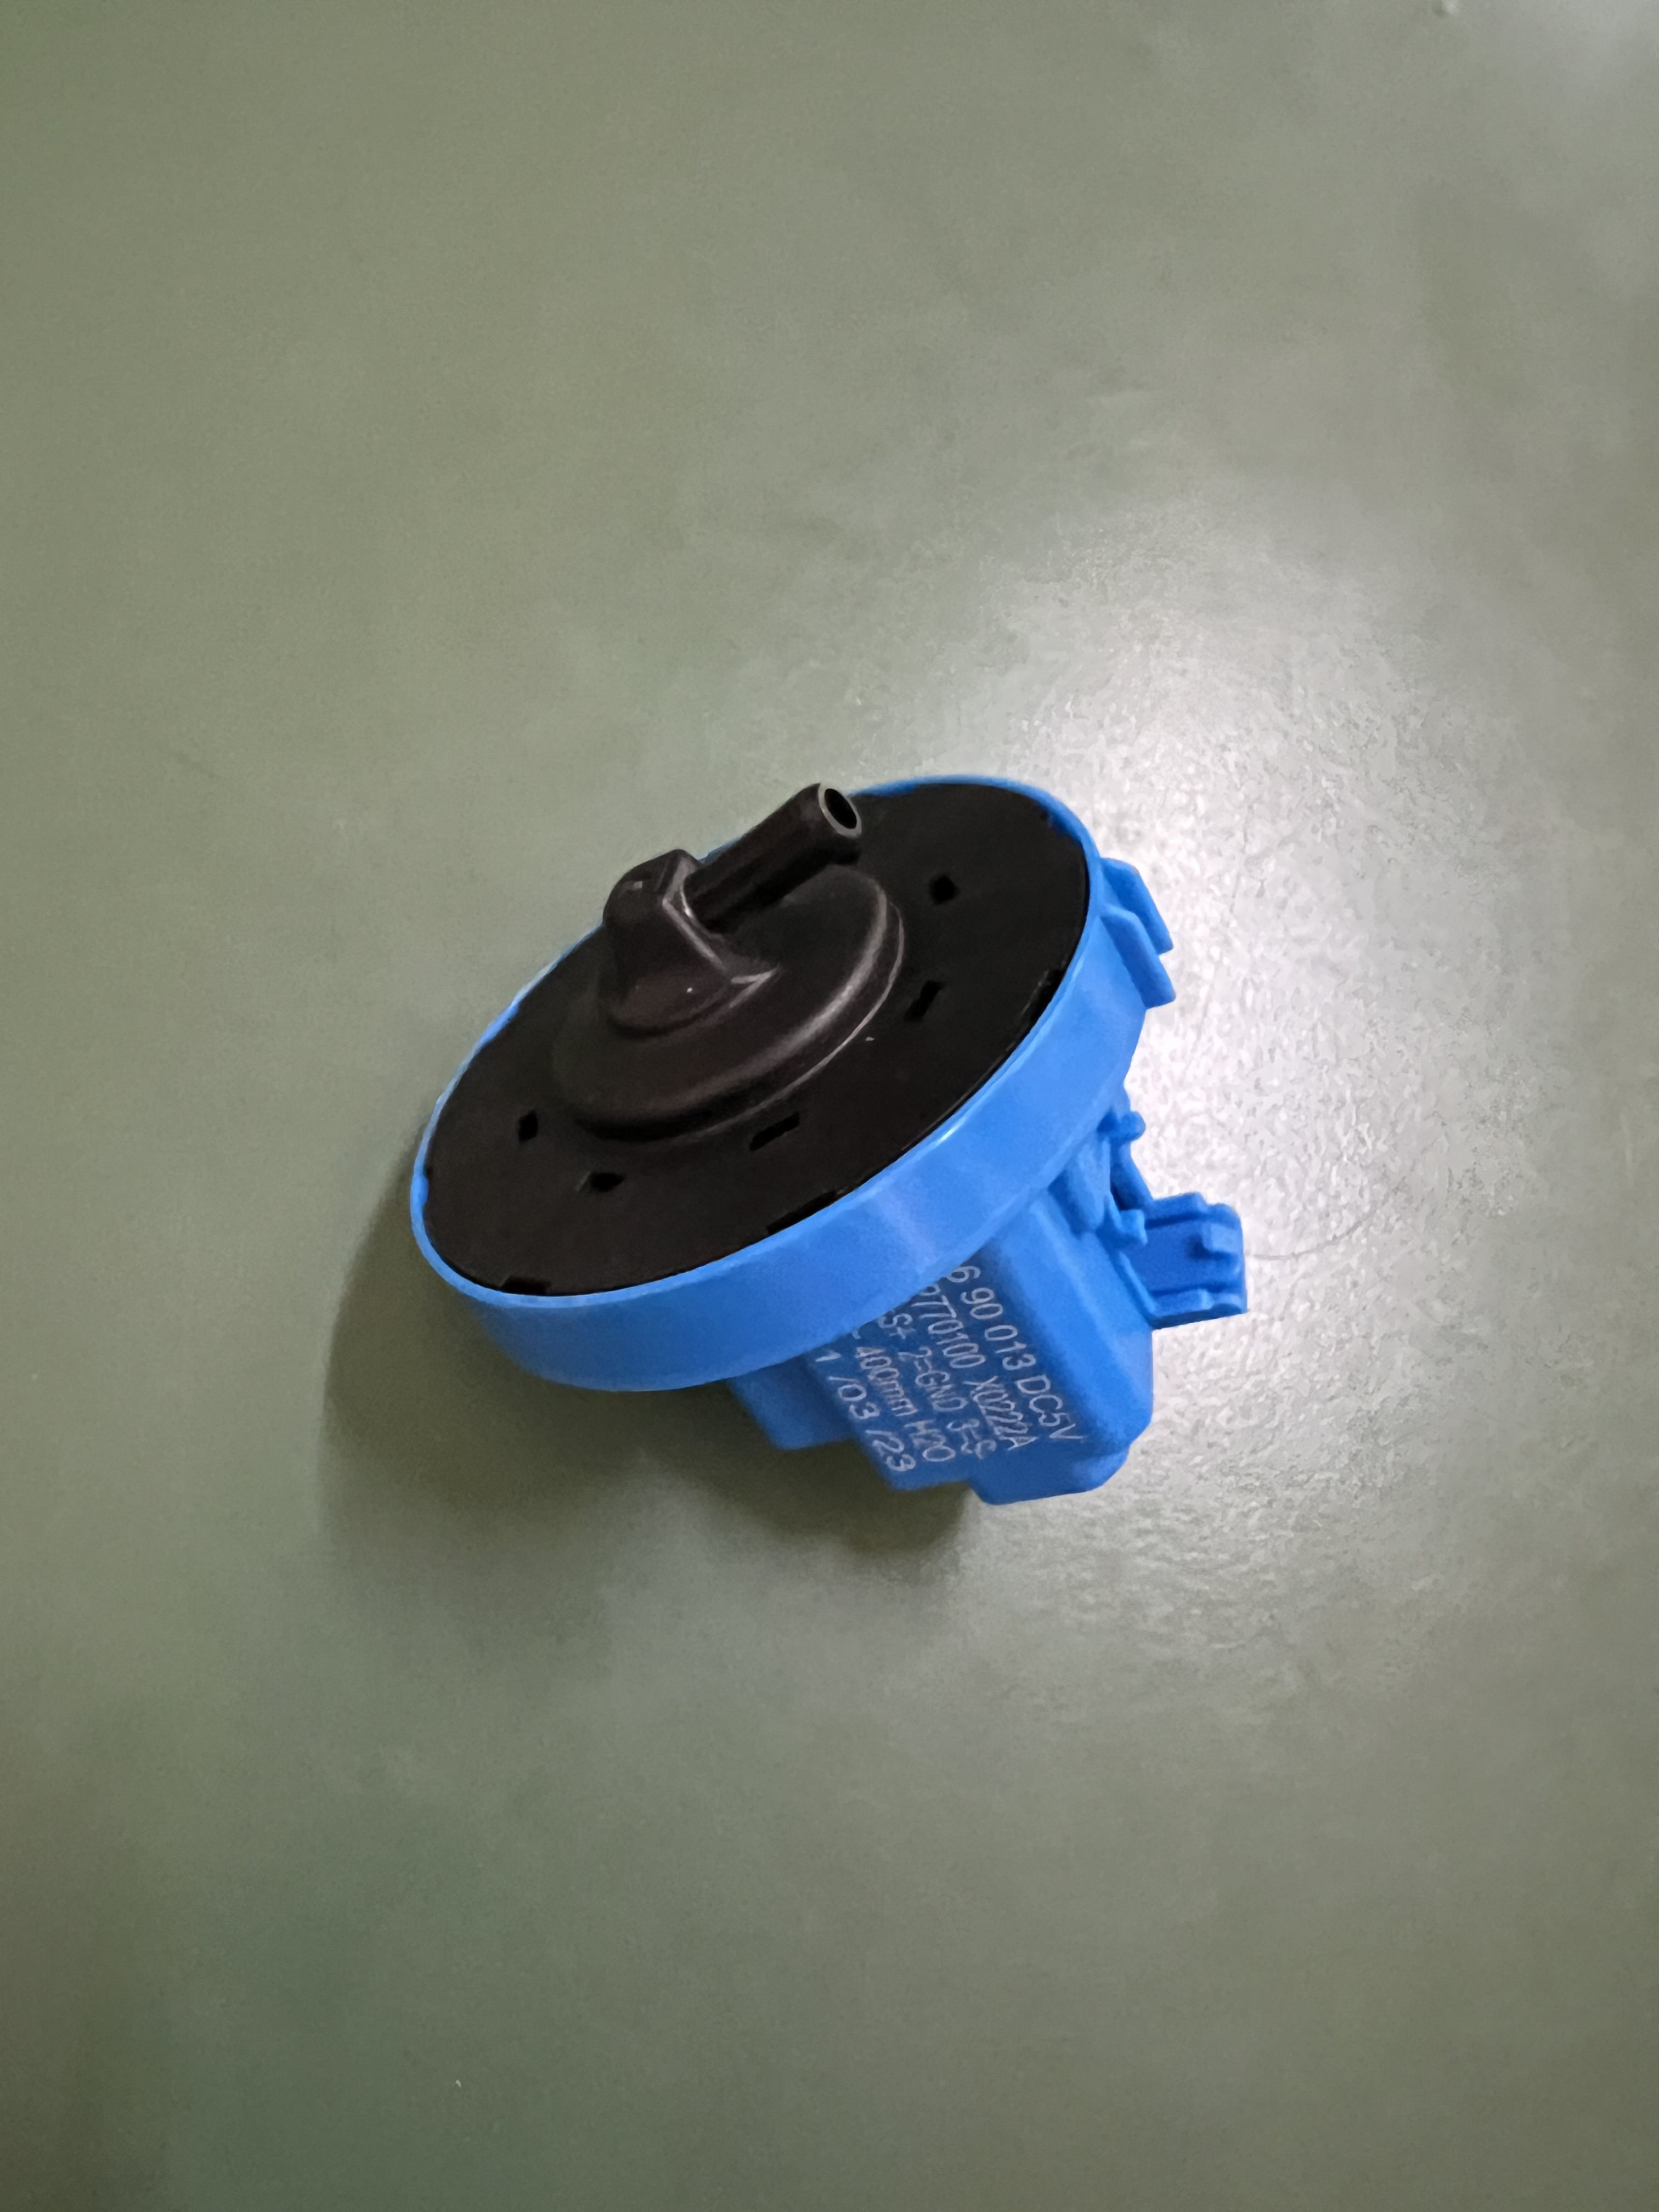voltas_beko_pressure_switch: (366, 778, 1283, 1561)
